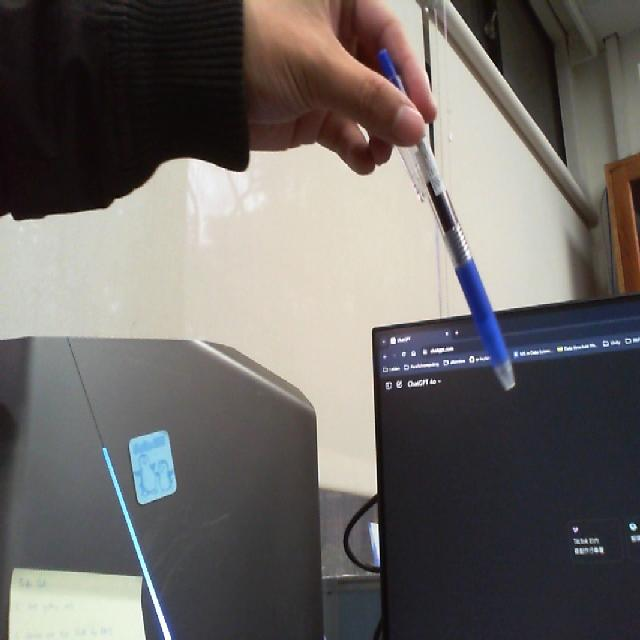Pen: (365, 44, 522, 397)
